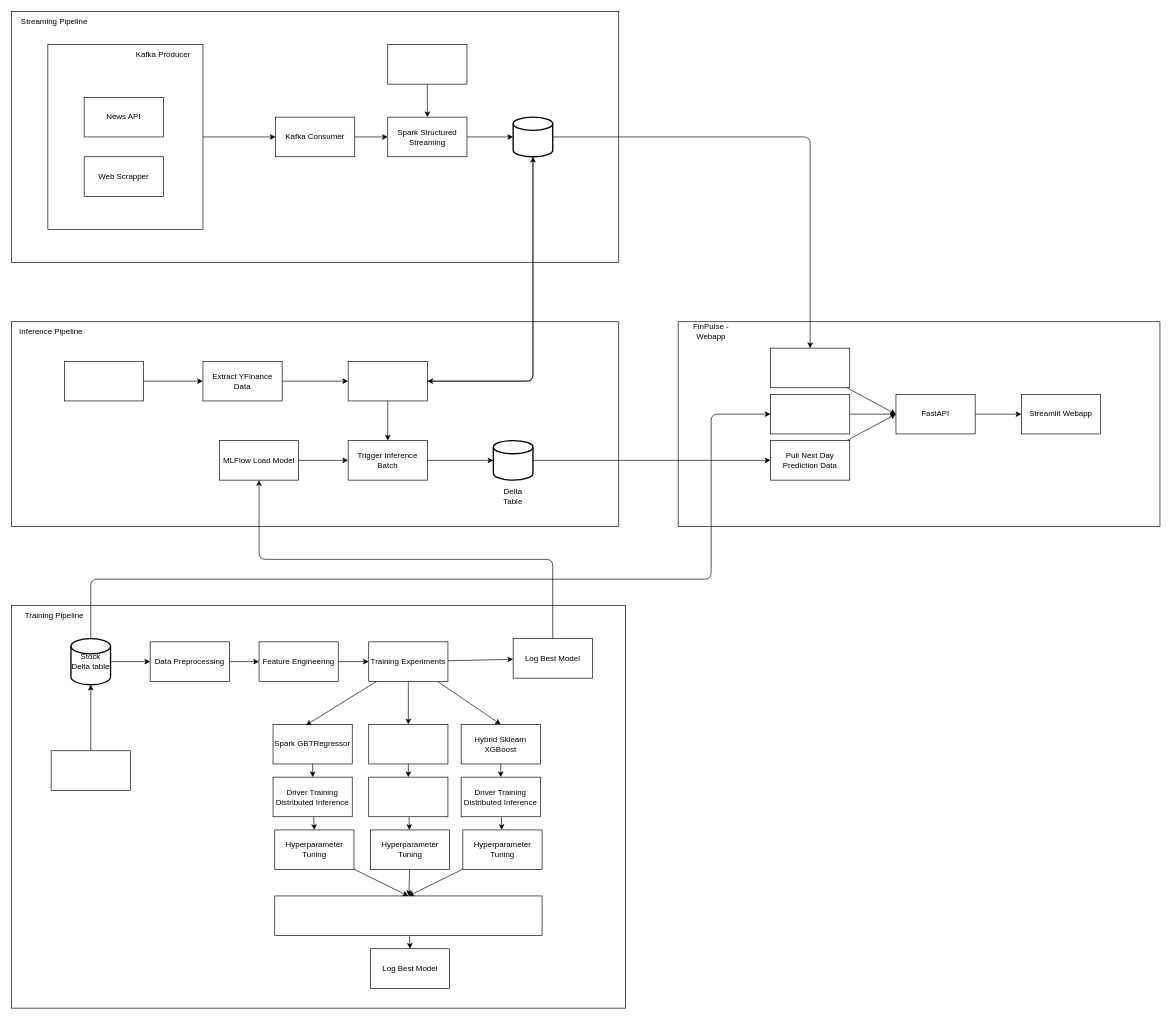
Image size: 1172x1020. Some labels were removed from this diagram. The centre of each missing label's shape, as x and y in pixels:
"Airflow Orchestrator" goes at (104,381).
"AstraDB" goes at (532,136).
"Auto Refresh Pull stock price data" goes at (810,414).
"Auto Refresh Pull Streaming News data" goes at (810,367).
"Azure OpenAI LLM" goes at (427,64).
"Dsitributed Training and Inference" goes at (408,796).
"Enrich Data with Sentiment" goes at (387,381).
"Predictions" goes at (512,460).
"Pull Stock Data" goes at (90,770).
"Scalability Tests 5 | 10 | 20 | 30 Stocks Data" goes at (408,915).
"Spark Random Forest" goes at (408,744).
